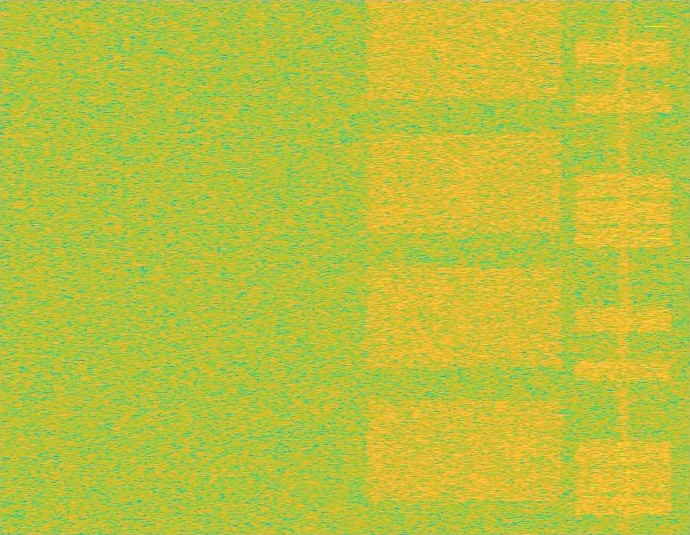5G: (361, 0, 568, 534)
DSSS: (617, 0, 631, 534)
LTE: (572, 0, 675, 534)
Radar: (650, 0, 664, 534)
